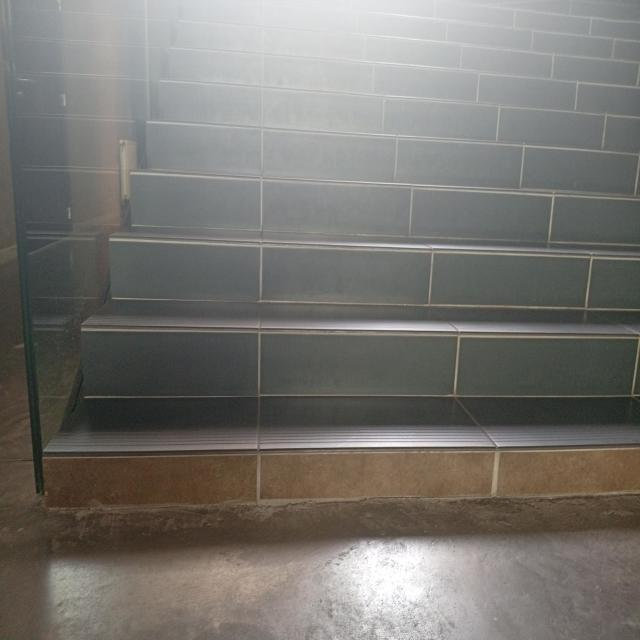Stairs: (11, 167, 630, 573)
